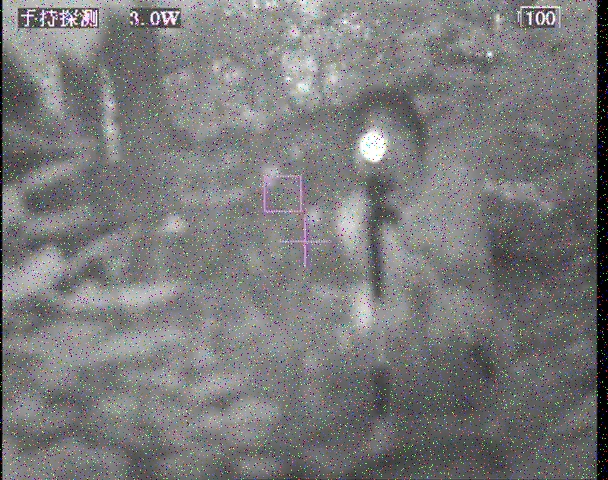my: (358, 131, 389, 163)
